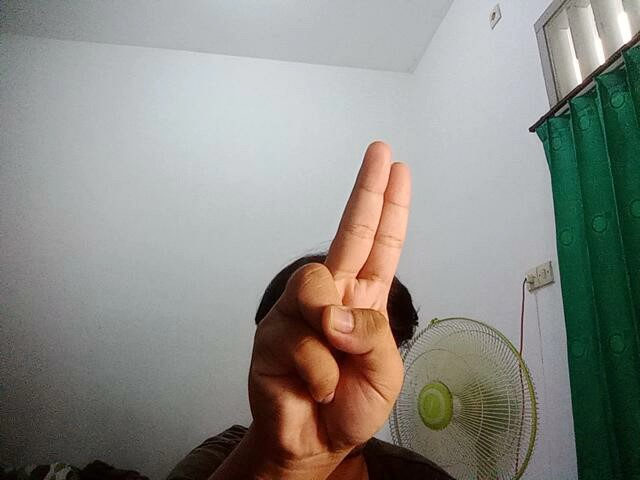U: (232, 137, 421, 460)
